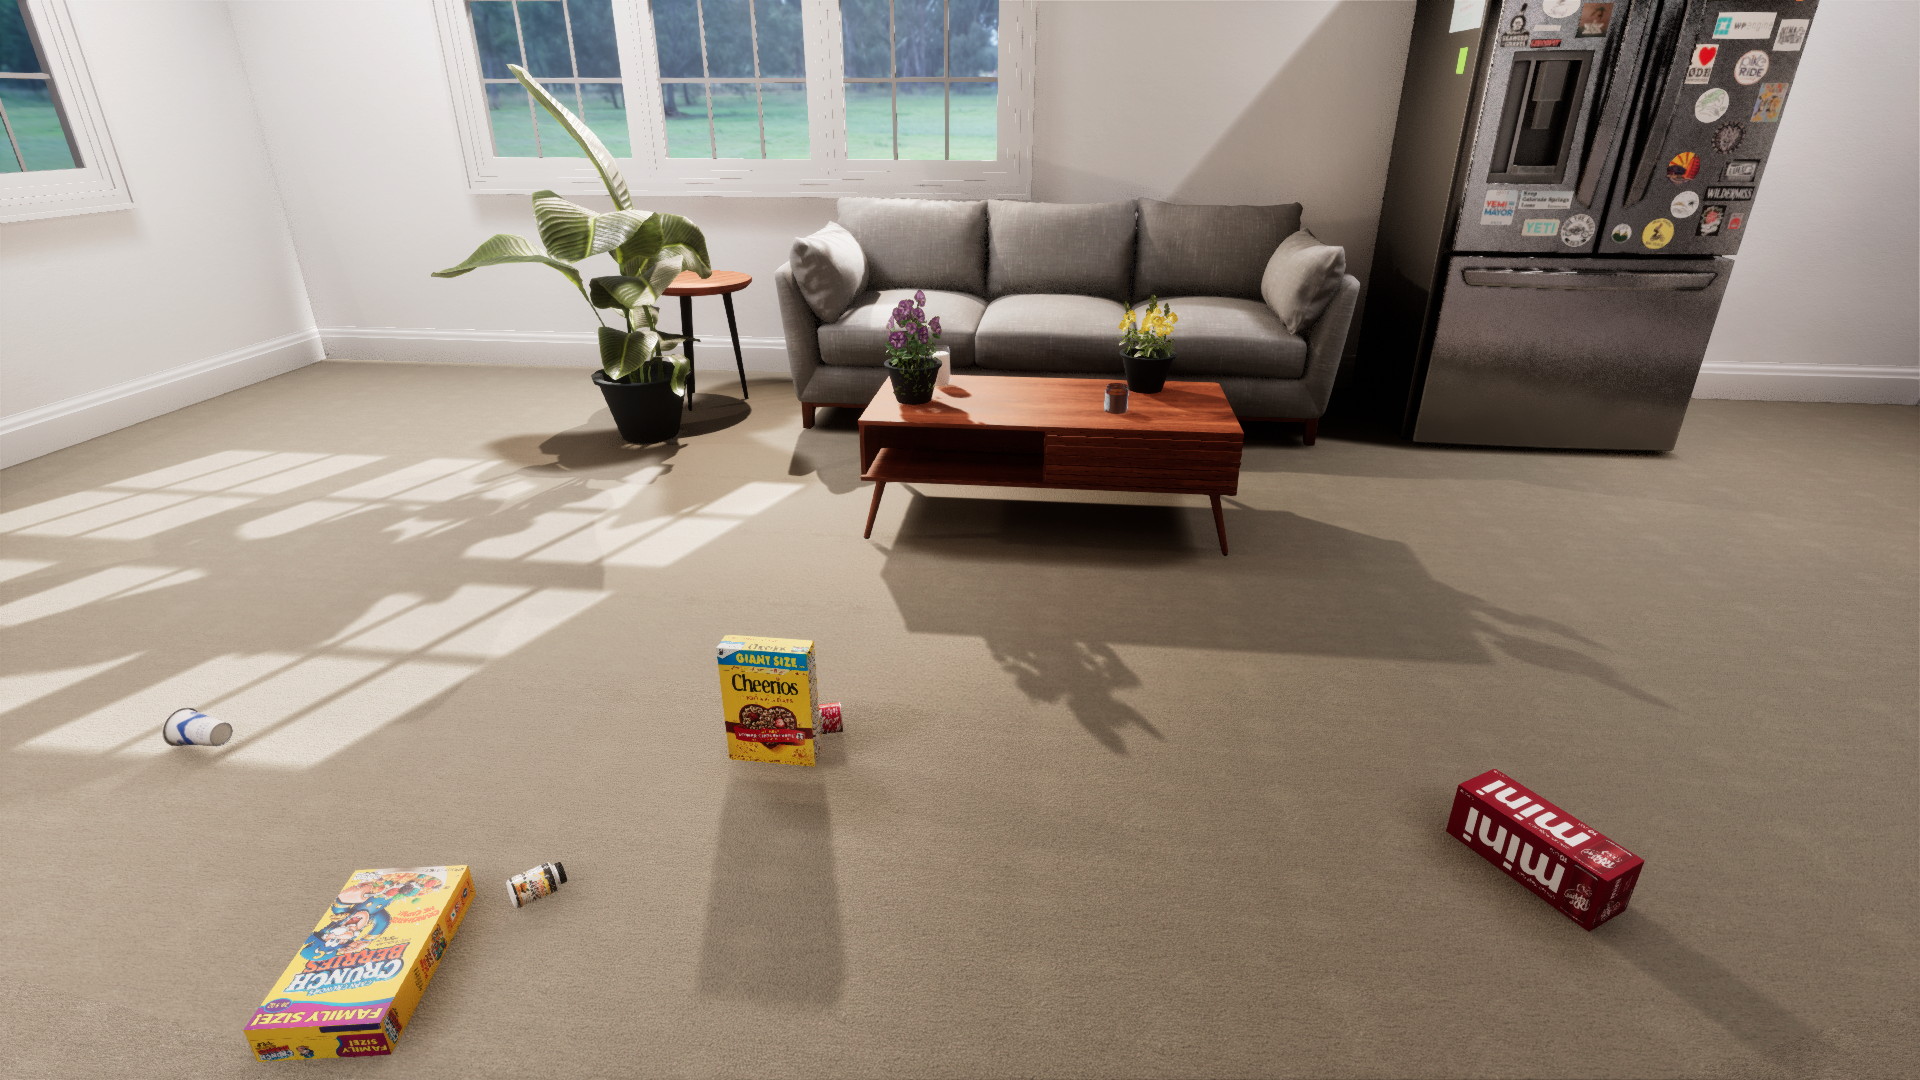cheerios: (670, 404, 746, 542)
soup: (742, 493, 790, 527)
